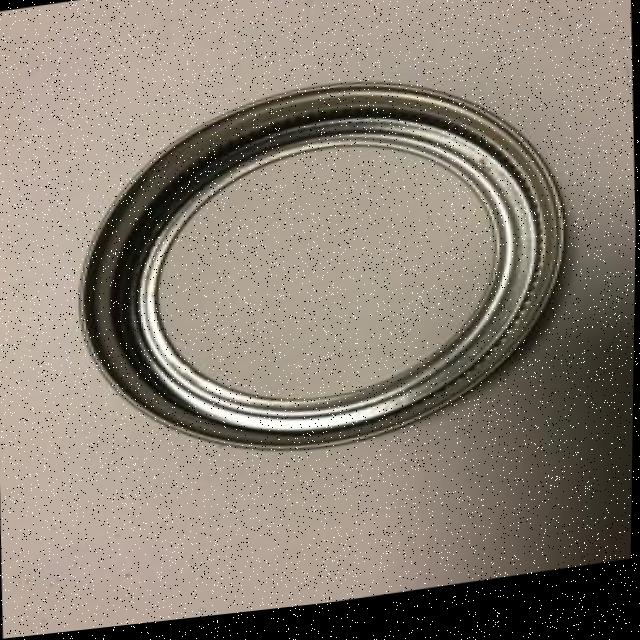metal: (63, 58, 583, 491)
